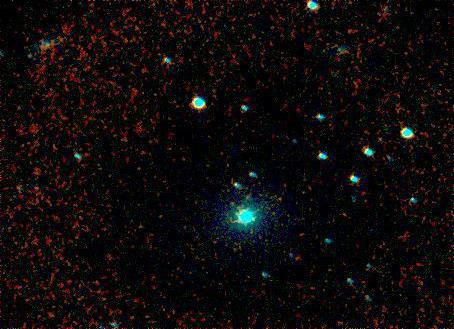star: (280, 247, 310, 277)
